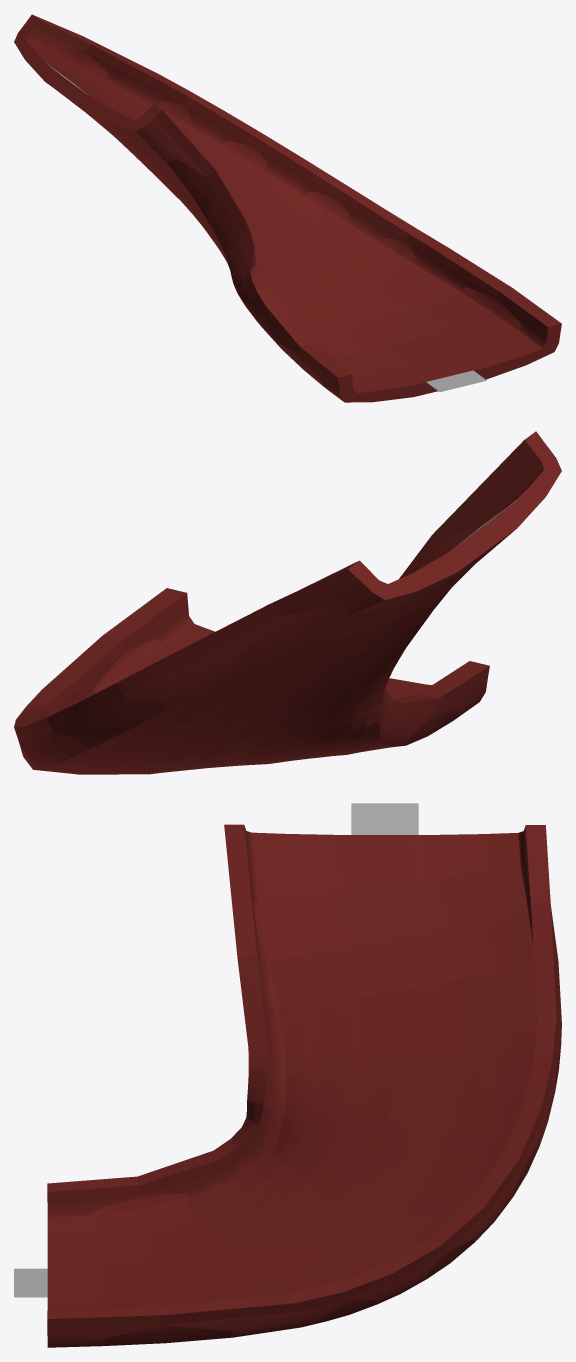
The model's file is 45DownRight90.fbx.
3 views of the same model, one above another, from view 1: azimuth 30°, elevation 25°; view 2: azimuth 150°, elevation 25°; view 3: azimuth 270°, elevation 25° (orthographic). The views are drawn at different scales.
Visible parts, largest first — view 1: pPipe3, pasted__pasted__pCube6; view 2: pPipe3; view 3: pPipe3, pasted__pasted__pCube36, pasted__pasted__pCube6.
Part boxes in pixels (bbox=[...]): pPipe3: bbox=[14, 14, 561, 402]; pasted__pasted__pCube6: bbox=[426, 370, 486, 391]; pPipe3: bbox=[14, 431, 561, 774]; pPipe3: bbox=[47, 824, 561, 1347]; pasted__pasted__pCube36: bbox=[351, 803, 418, 834]; pasted__pasted__pCube6: bbox=[14, 1268, 47, 1297].
Size of the model in its own units: 15.44 by 11.25 by 16.25.
